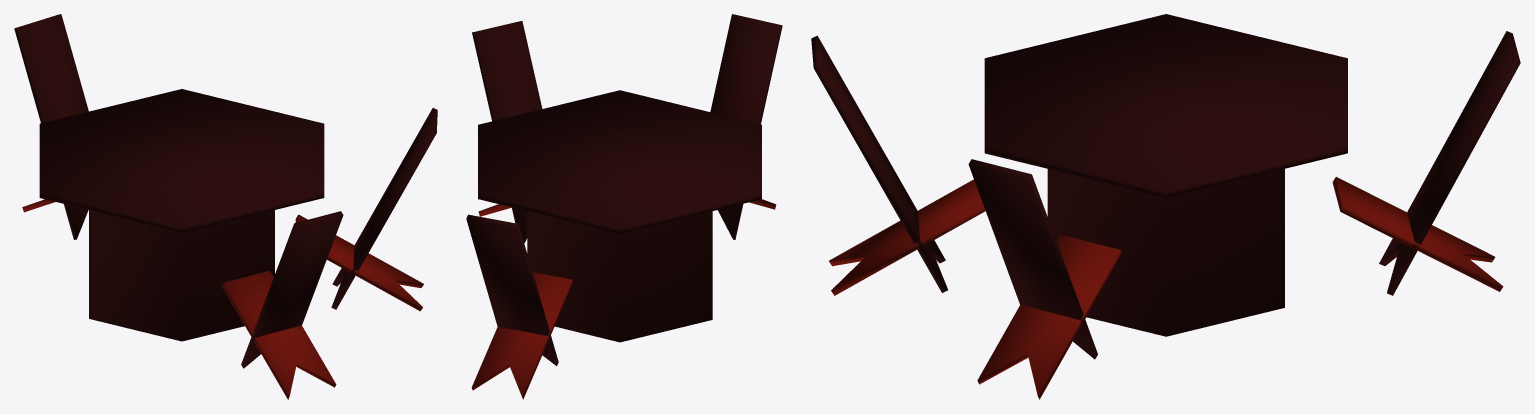
File: table.fbx
3 views of the same model, side by side, from view 1: azimuth 30°, elevation 25°; view 2: azimuth 150°, elevation 25°; view 3: azimuth 270°, elevation 25° (orthographic). The views are drawn at different scales.
Visible parts, largest first — view 1: Tisch, Lehne, Lehne002, Sitz, Lehne001, Sitz001; view 2: Tisch, Lehne002, Lehne, Lehne001, Sitz002; view 3: Tisch, Lehne001, Sitz001, Lehne002, Sitz, Lehne, Sitz002.
Part boxes in pixels (<box>): Tisch: <box>39,89,324,341</box>; Lehne: <box>241,211,343,368</box>; Lehne002: <box>14,14,88,239</box>; Sitz: <box>222,270,336,399</box>; Lehne001: <box>331,108,437,309</box>; Sitz001: <box>295,214,423,311</box>; Tisch: <box>478,90,761,342</box>; Lehne002: <box>466,214,558,366</box>; Lehne: <box>710,14,782,239</box>; Lehne001: <box>472,21,542,243</box>; Sitz002: <box>471,272,573,399</box>; Tisch: <box>984,14,1347,336</box>; Lehne001: <box>968,159,1097,359</box>; Sitz001: <box>977,234,1121,399</box>; Lehne002: <box>1379,31,1520,295</box>; Sitz: <box>829,179,985,295</box>; Lehne: <box>811,35,947,292</box>; Sitz002: <box>1332,177,1503,291</box>.
Size of the model in its own units: 85.3 by 42.8 by 119.
